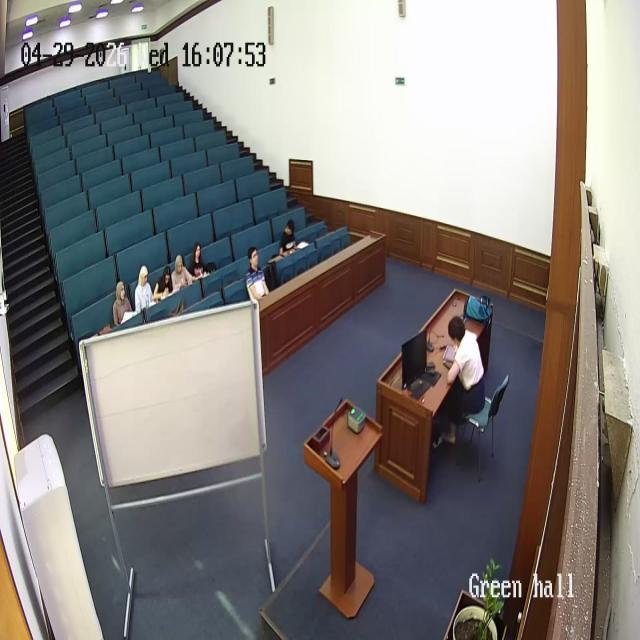person: (435, 316, 487, 448), (244, 245, 270, 304), (134, 265, 155, 314), (112, 281, 133, 326), (170, 254, 194, 292), (187, 242, 210, 279), (153, 265, 175, 303), (278, 219, 300, 256)
